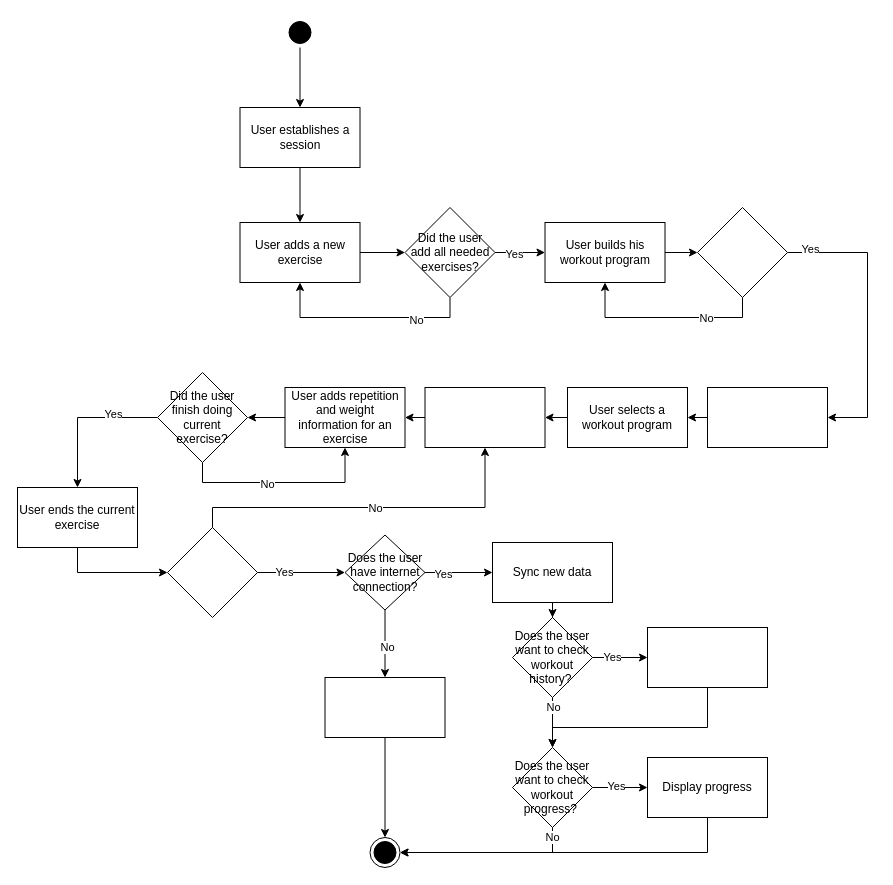
The diagram is 893 pixels wide and 885 high, and some of its shapes have lost their labels. Each missing label, with the centre of its shape:
"Cache workout data locally" goes at [384,707].
"Did the user build all needed workout programs?" goes at [742,252].
"Did the user finish his workout?" goes at [212,572].
"Display history" goes at [707,657].
"User starts a new exercise" goes at [484,417].
"User starts the workout" goes at [767,417].
